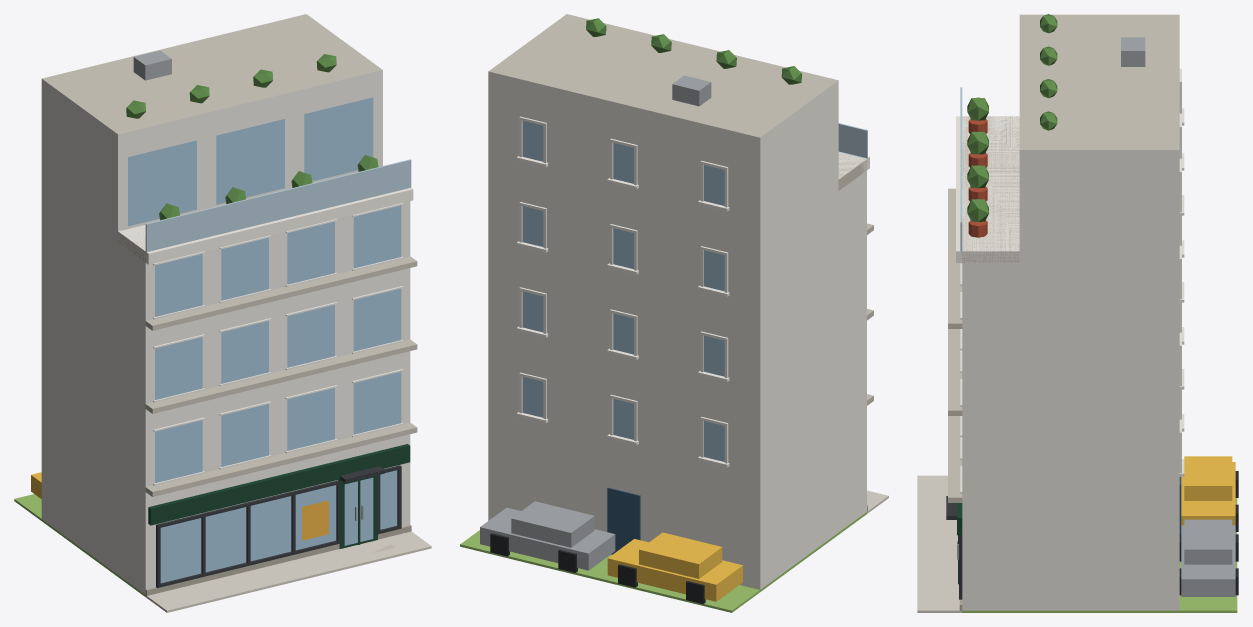
The model's file is Blok_duz_5k_8_Hafif.fbx.
3 renders of one model, left to right at view 1: azimuth 30°, elevation 25°; view 2: azimuth 150°, elevation 25°; view 3: azimuth 270°, elevation 25°, orthographic. The views are drawn at different scales.
Visible parts, largest first — view 1: Blok_duz_5k_8_Hafif; view 2: Blok_duz_5k_8_Hafif; view 3: Blok_duz_5k_8_Hafif.
Part boxes in pixels (bbox=[...]): Blok_duz_5k_8_Hafif: bbox=[14, 14, 431, 612]; Blok_duz_5k_8_Hafif: bbox=[460, 14, 888, 612]; Blok_duz_5k_8_Hafif: bbox=[917, 14, 1238, 612].
Size of the model in its own units: 10 by 16.57 by 10.04.
